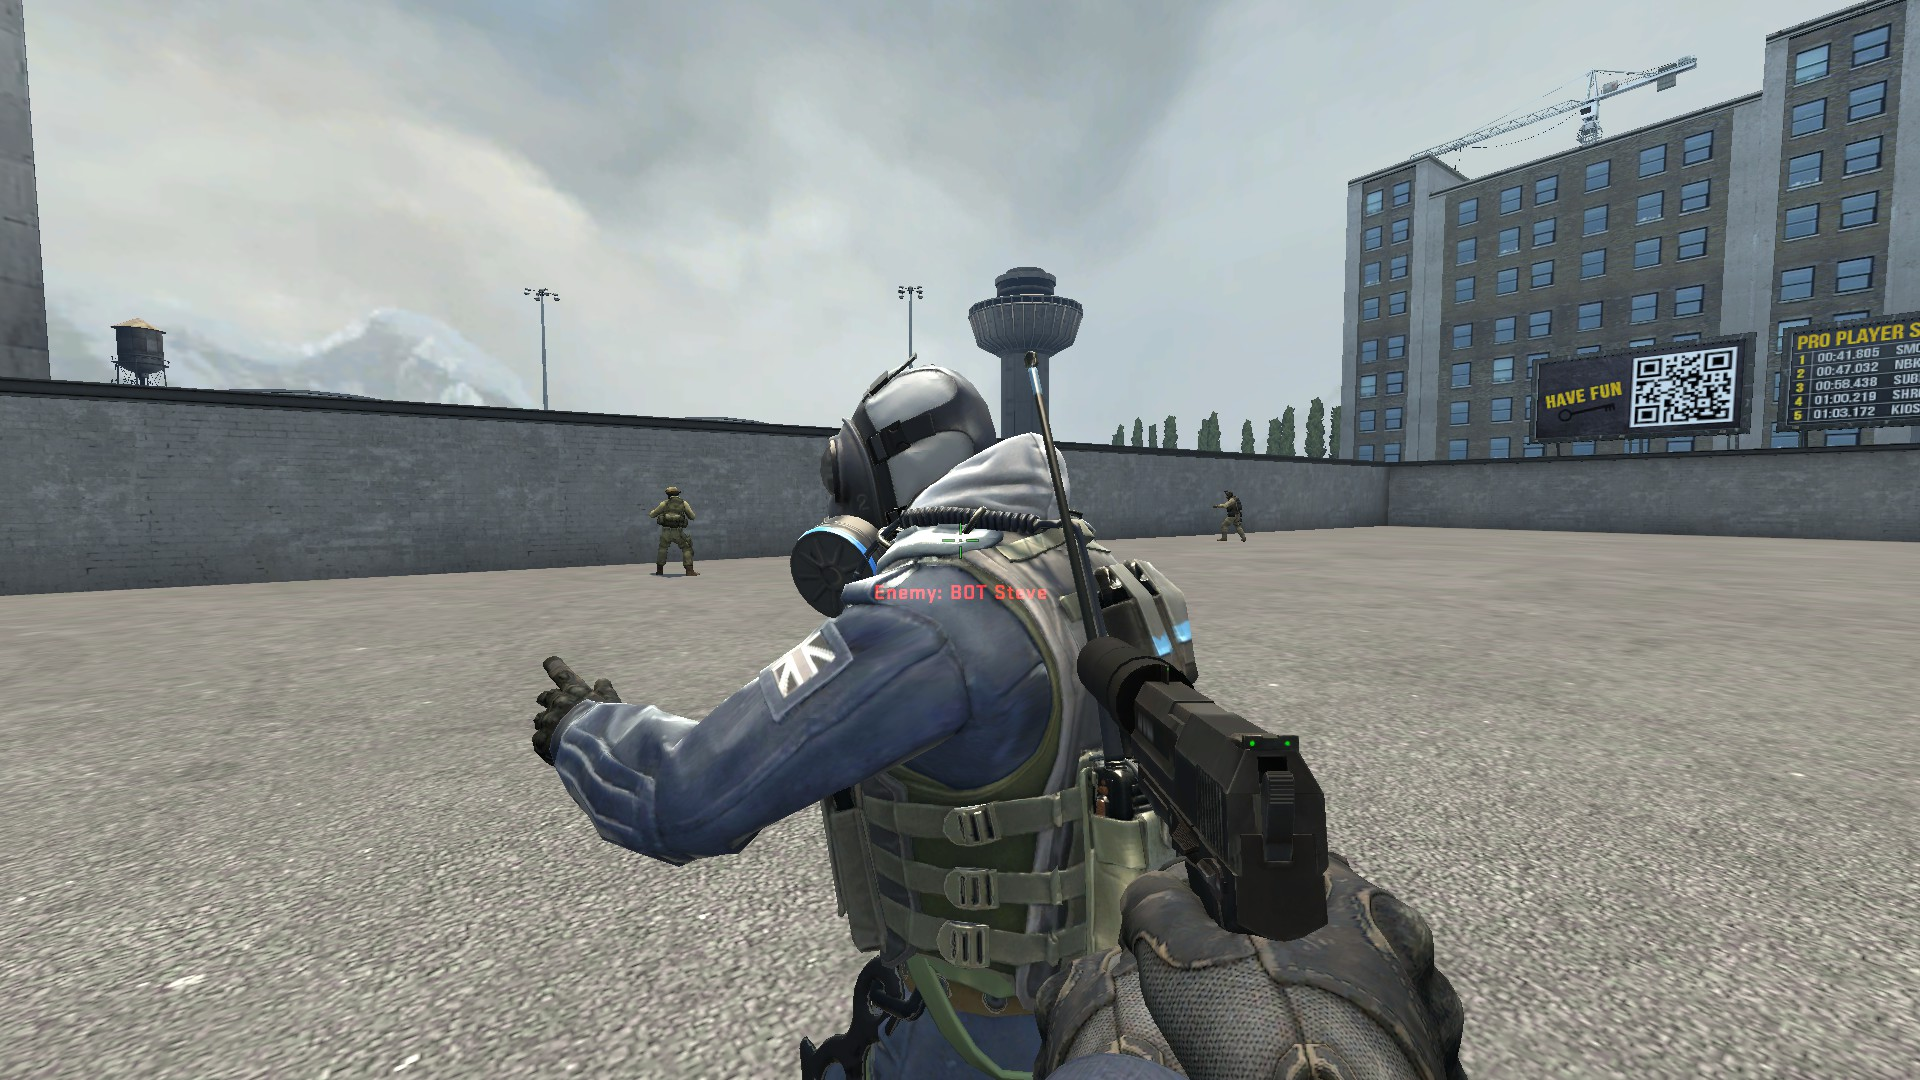ct: (529, 352, 1207, 1080)
ct head: (785, 353, 1006, 625)
